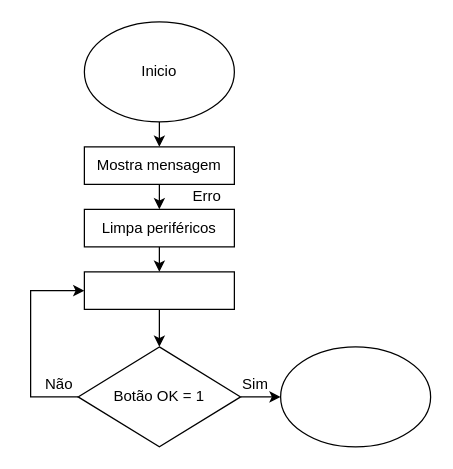
Image size: 453x469. Some labels were removed from this diagram. Here are the shapes that lost their labels. From the top down, the box of each, then its label:
(83, 271, 234, 309): Lê botão: OK
(279, 346, 431, 447): Fim
